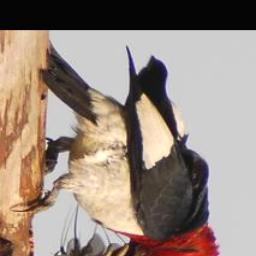Woodpecker: (12, 43, 219, 256)
